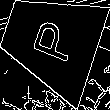P_W: (24, 15, 77, 67)
